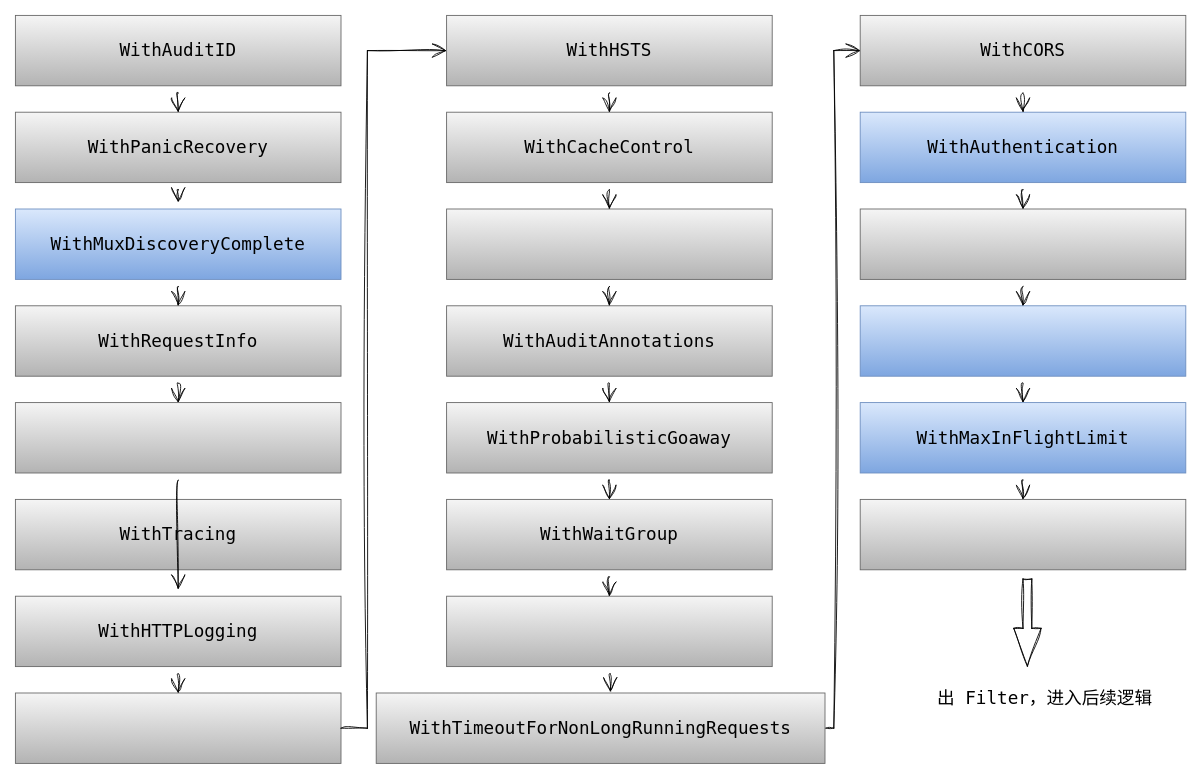
Some shapes in this 1201 by 779 pixel diagram are drawn without their labels. Each missing label, with the centre of its shape:
WithAudit: (x=1022, y=243)
WithAuthorization: (x=1022, y=534)
WithImpersonation: (x=1022, y=340)
WithLatencyTrackers: (x=178, y=437)
WithRequestDeadline: (x=609, y=631)
WithRetryAfter: (x=178, y=727)
WithWarningRecorder: (x=609, y=243)
